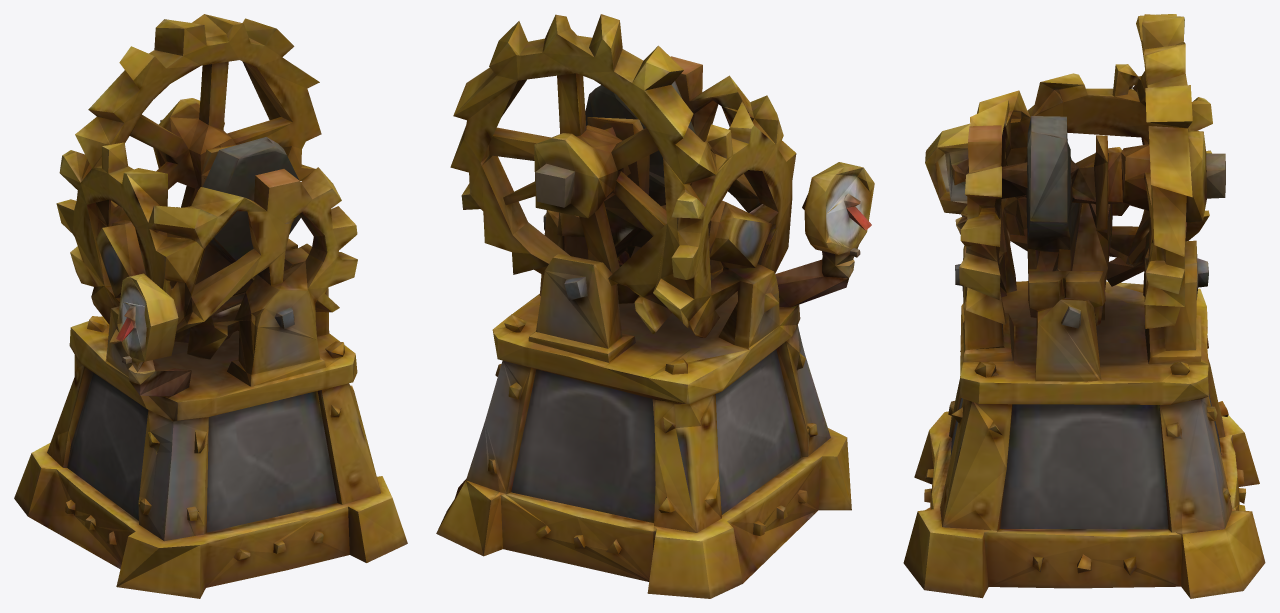
Rendered from d_mine_engrenage.glb.
3 views of the same model, side by side, from view 1: azimuth 30°, elevation 25°; view 2: azimuth 150°, elevation 25°; view 3: azimuth 270°, elevation 25° (orthographic). The views are drawn at different scales.
Parts seen in each view (by area): view 1: geometry_0; view 2: geometry_0; view 3: geometry_0.
Boxes of the visible parts, box(x1,y1,x2,y2) form: geometry_0: box(14, 14, 407, 598); geometry_0: box(436, 14, 874, 598); geometry_0: box(903, 14, 1265, 598).
Size of the model in its own units: 0.6427 by 1 by 0.6411.
1 material, 1 textured.
